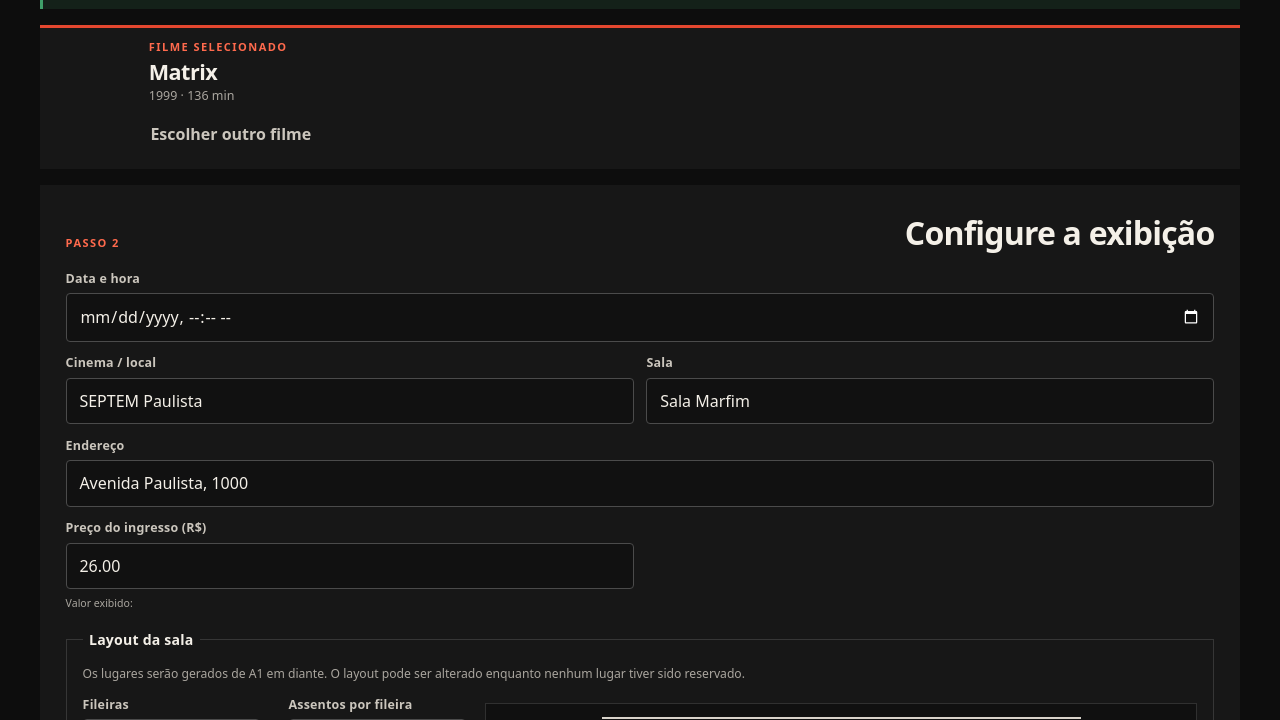
Test: editor de sessão do organizador › avisa o guarda de saída assim que existe alteração não salva
(page scrolled)
Type " Reformada" into the field labelled "Sala" at (930,401), box [646,378,1214,424]
(page scrolled)
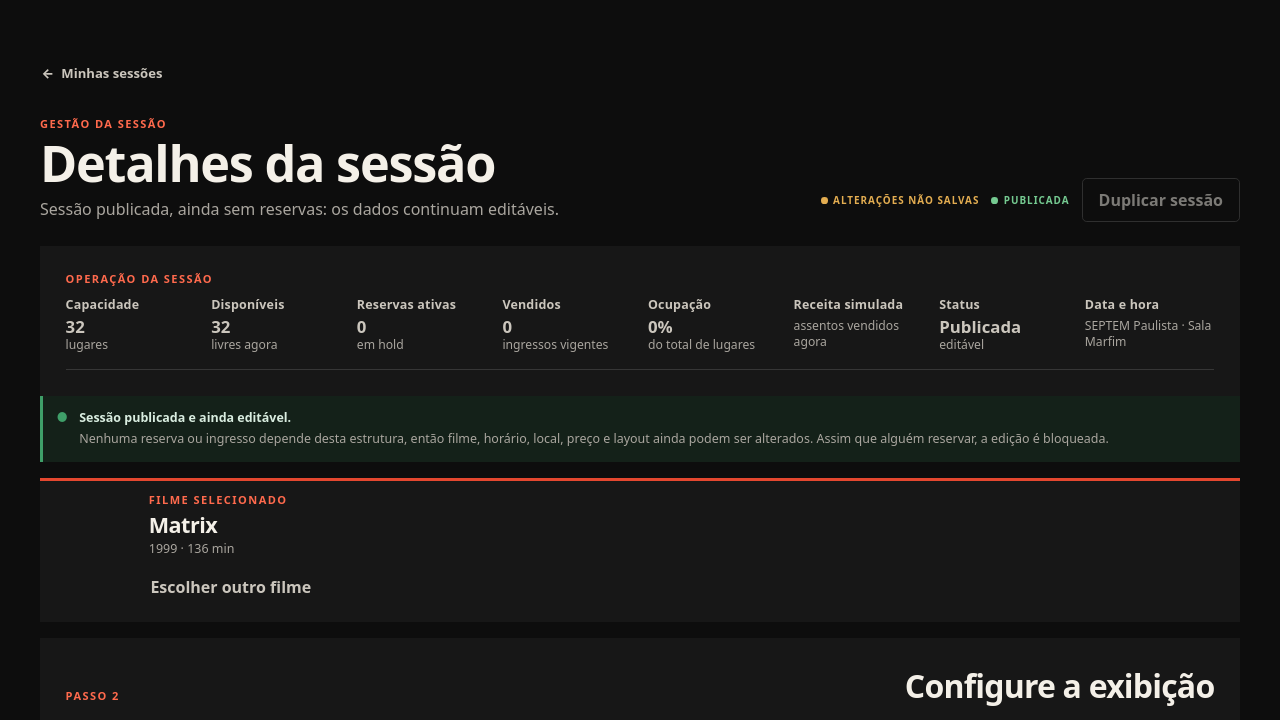
Check: the button "Duplicar sessão" is disabled, box [1082,178,1240,222]
